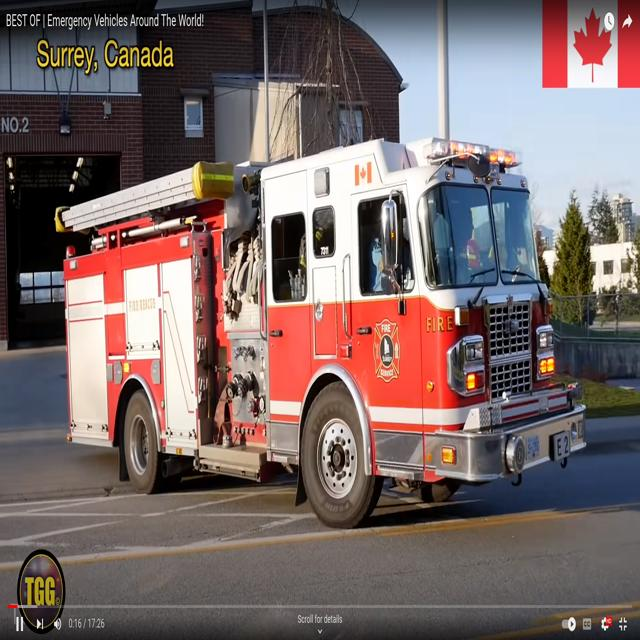emergency-vehicles: (25, 133, 601, 528)
